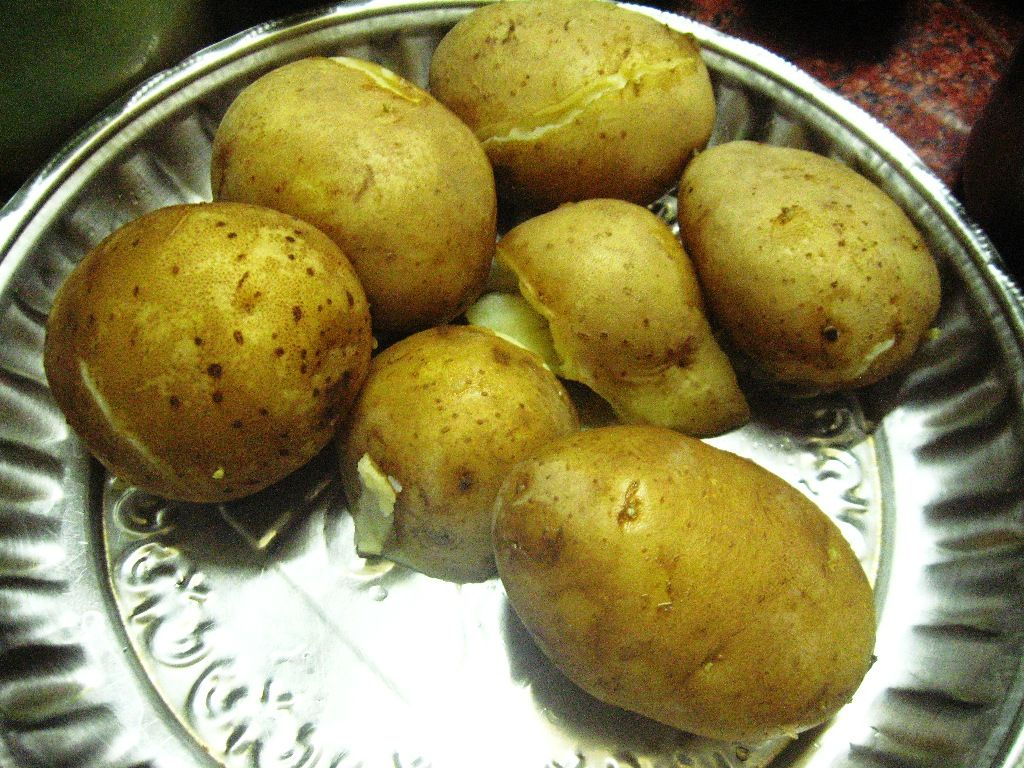boiled potatoes: (188, 127, 804, 530)
